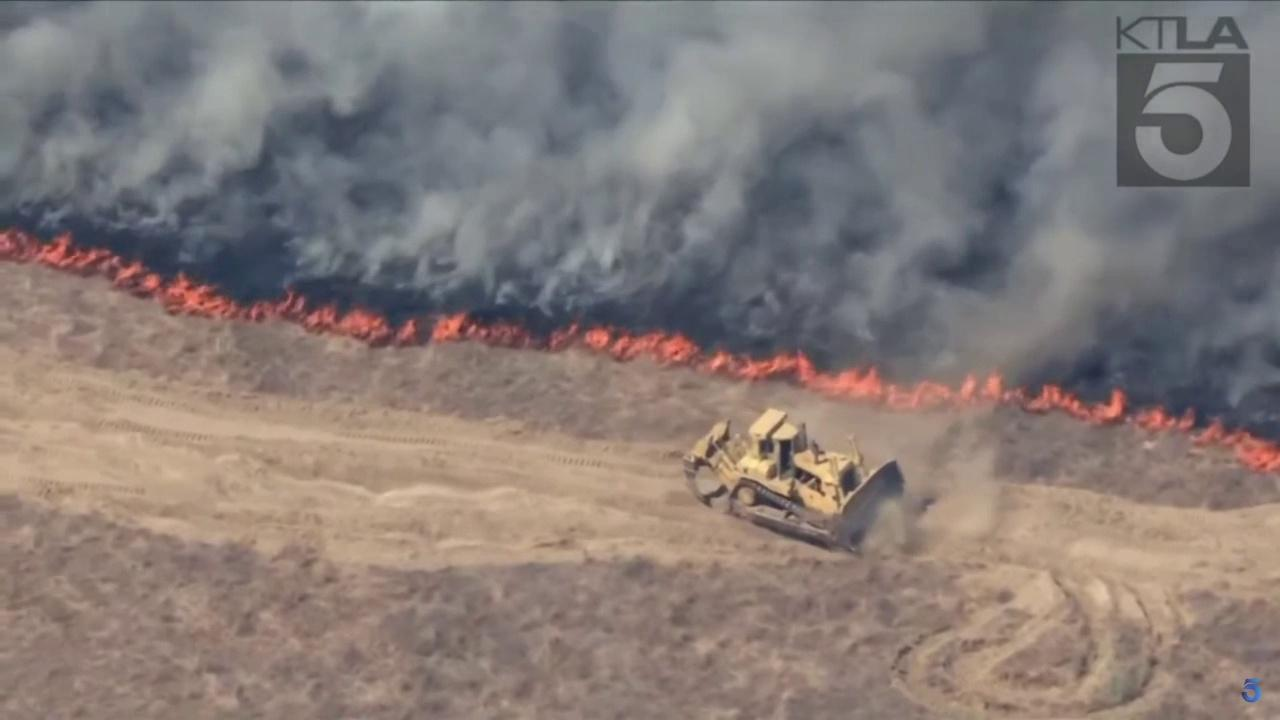fire: (428, 309, 1279, 475), (0, 219, 419, 349)
smoke: (0, 0, 1280, 426)
